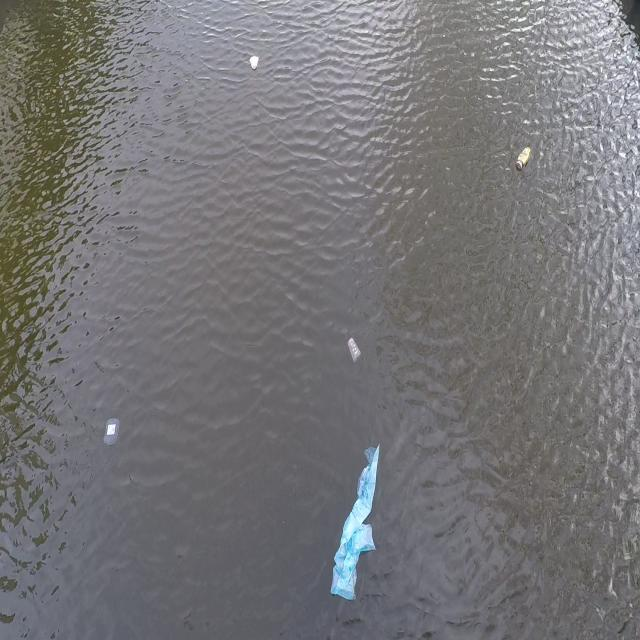Autre plastique: (100, 413, 122, 449)
Non plastique: (512, 140, 534, 174), (248, 51, 260, 73)
Sac plastique: (327, 440, 388, 612)
